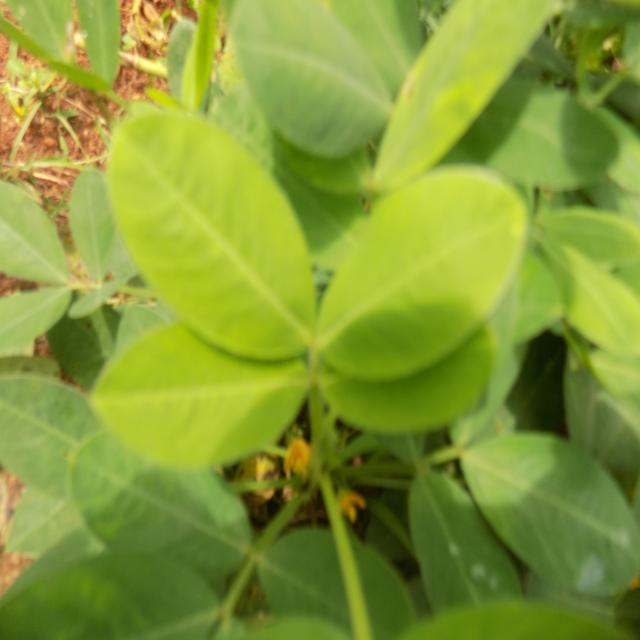Ground nut_healthy: (107, 104, 313, 358), (317, 167, 528, 383), (92, 313, 315, 470), (67, 427, 251, 575), (235, 2, 394, 159), (320, 302, 494, 432)
